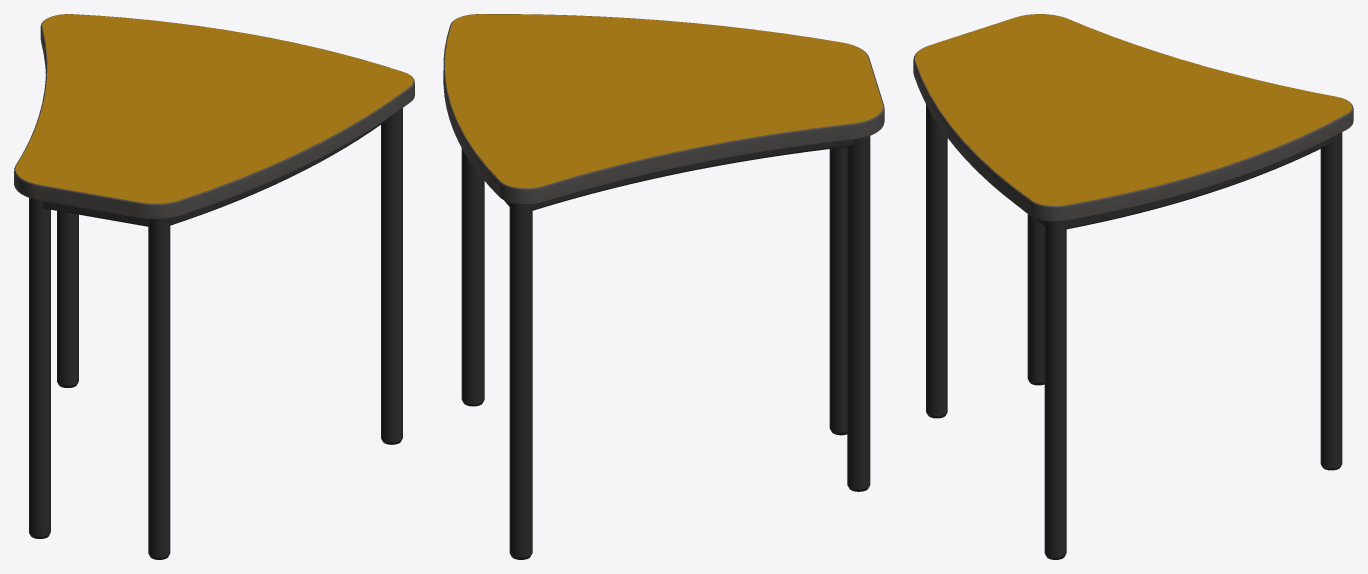
File: Contour vex table.FBX
The picture shows the model from 3 angles, left to right: view 1: azimuth 30°, elevation 25°; view 2: azimuth 150°, elevation 25°; view 3: azimuth 270°, elevation 25°; orthographic projection. The views are drawn at different scales.
Parts seen in each view (by area): view 1: contour vex table004, Object096, Object097; view 2: contour vex table004, Object096, Object097; view 3: contour vex table004, Object096, Object097.
Boxes of the visible parts, <box> form: contour vex table004: <box>15,14,413,203</box>; Object096: <box>29,108,402,559</box>; Object097: <box>14,14,414,219</box>; contour vex table004: <box>445,14,882,188</box>; Object096: <box>461,136,870,559</box>; Object097: <box>443,14,884,204</box>; contour vex table004: <box>915,14,1351,205</box>; Object096: <box>926,104,1342,559</box>; Object097: <box>913,14,1353,221</box>.
Size of the model in its own units: 670 by 580 by 645.
